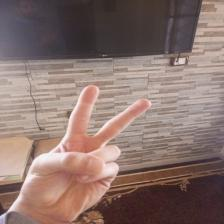two: (29, 84, 152, 211)
